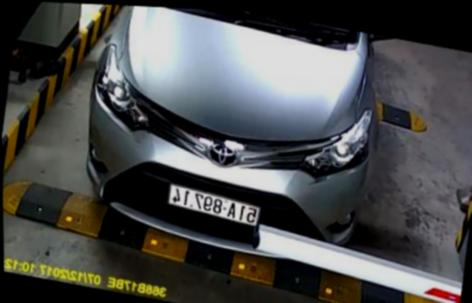License_Plate: (160, 182, 266, 230)
